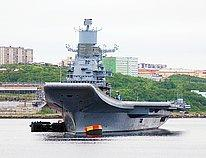MIL_Ship: (43, 17, 192, 130)
